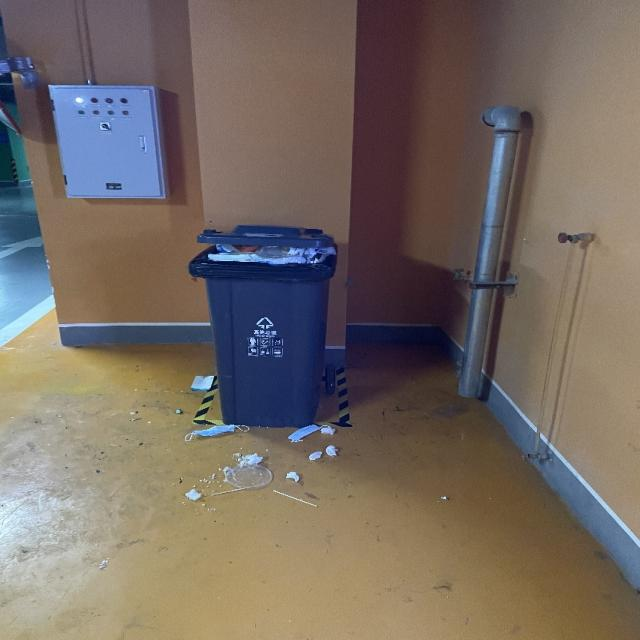garbage: (175, 374, 338, 508)
overflow: (187, 224, 339, 426)
